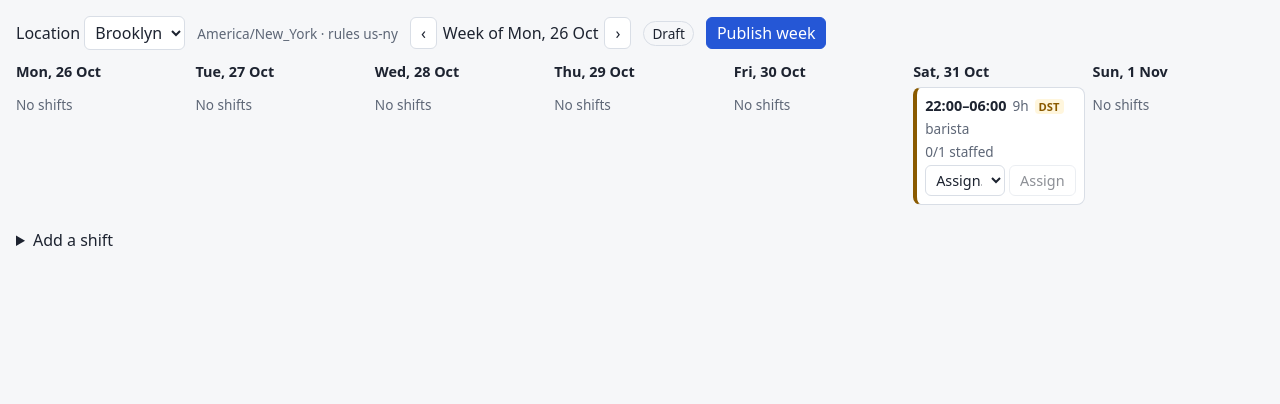
Test: ScheduleView › shows a blocked assignment next to the shift and a notice
Select "Ella (barista)" in the dropdown named "Assign staff to 22:00 shift": (965, 180) x1=925 y1=165 x2=1005 y2=196
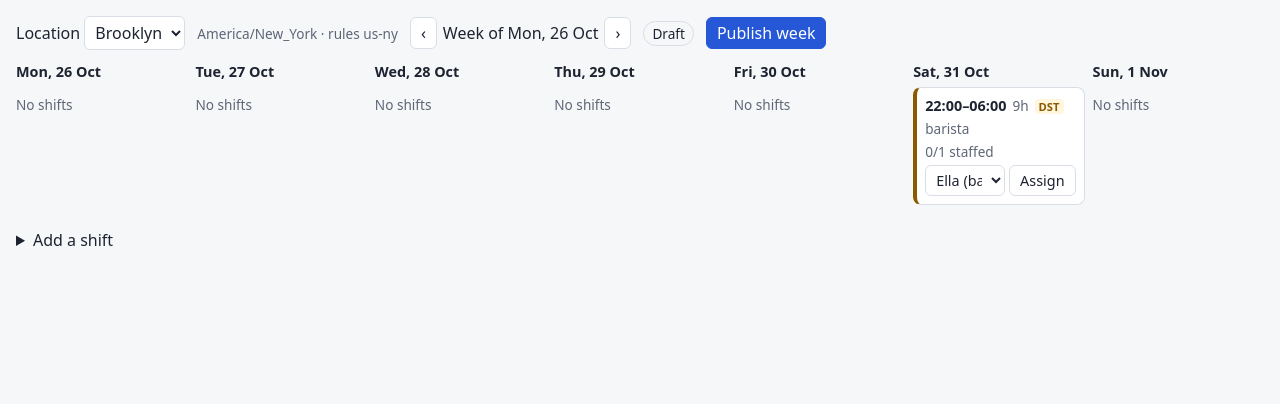
Submit the form, box x1=925 y1=165 x2=1076 y2=196
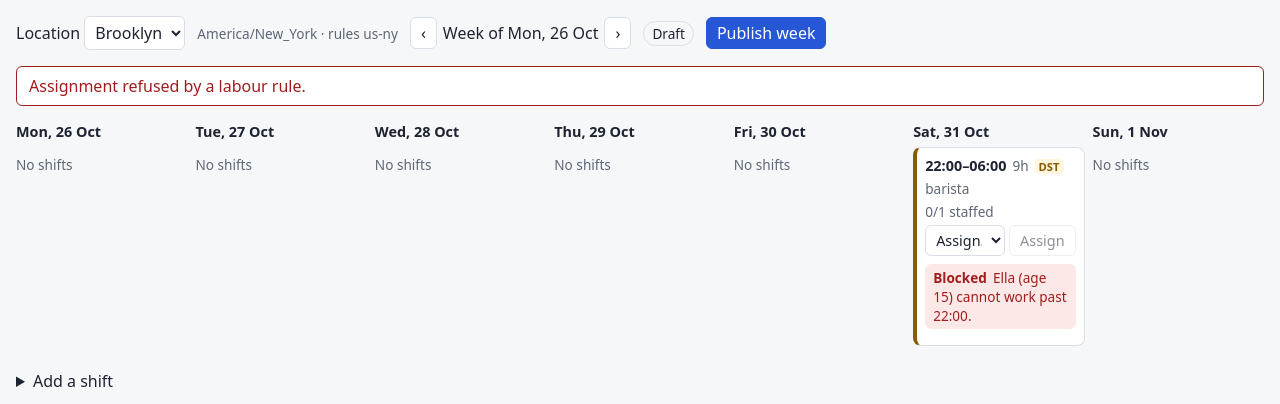
Now the list item with class "block" shows "cannot work past 22:00", box x1=933 y1=268 x2=1067 y2=325
Now the message with class "error" shows "refused", box x1=29 y1=75 x2=306 y2=97
